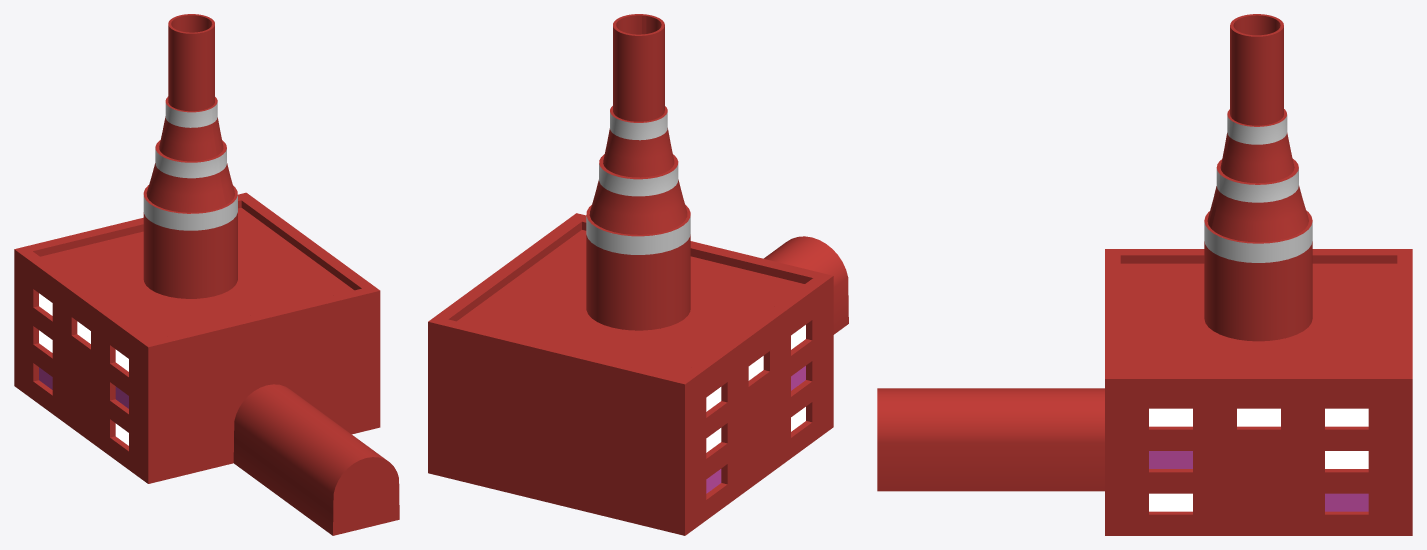
File: factoryExtension.glb
3 views of the same model, side by side, from view 1: azimuth 30°, elevation 25°; view 2: azimuth 150°, elevation 25°; view 3: azimuth 270°, elevation 25° (orthographic). The views are drawn at different scales.
Parts seen in each view (by area): view 1: Cube.001; view 2: Cube.001; view 3: Cube.001.
Boxes of the visible parts, bbox=[...] form: Cube.001: bbox=[14, 14, 399, 535]; Cube.001: bbox=[428, 14, 848, 535]; Cube.001: bbox=[877, 14, 1412, 535].
Size of the model in its own units: 0.5745 by 0.9106 by 1.
